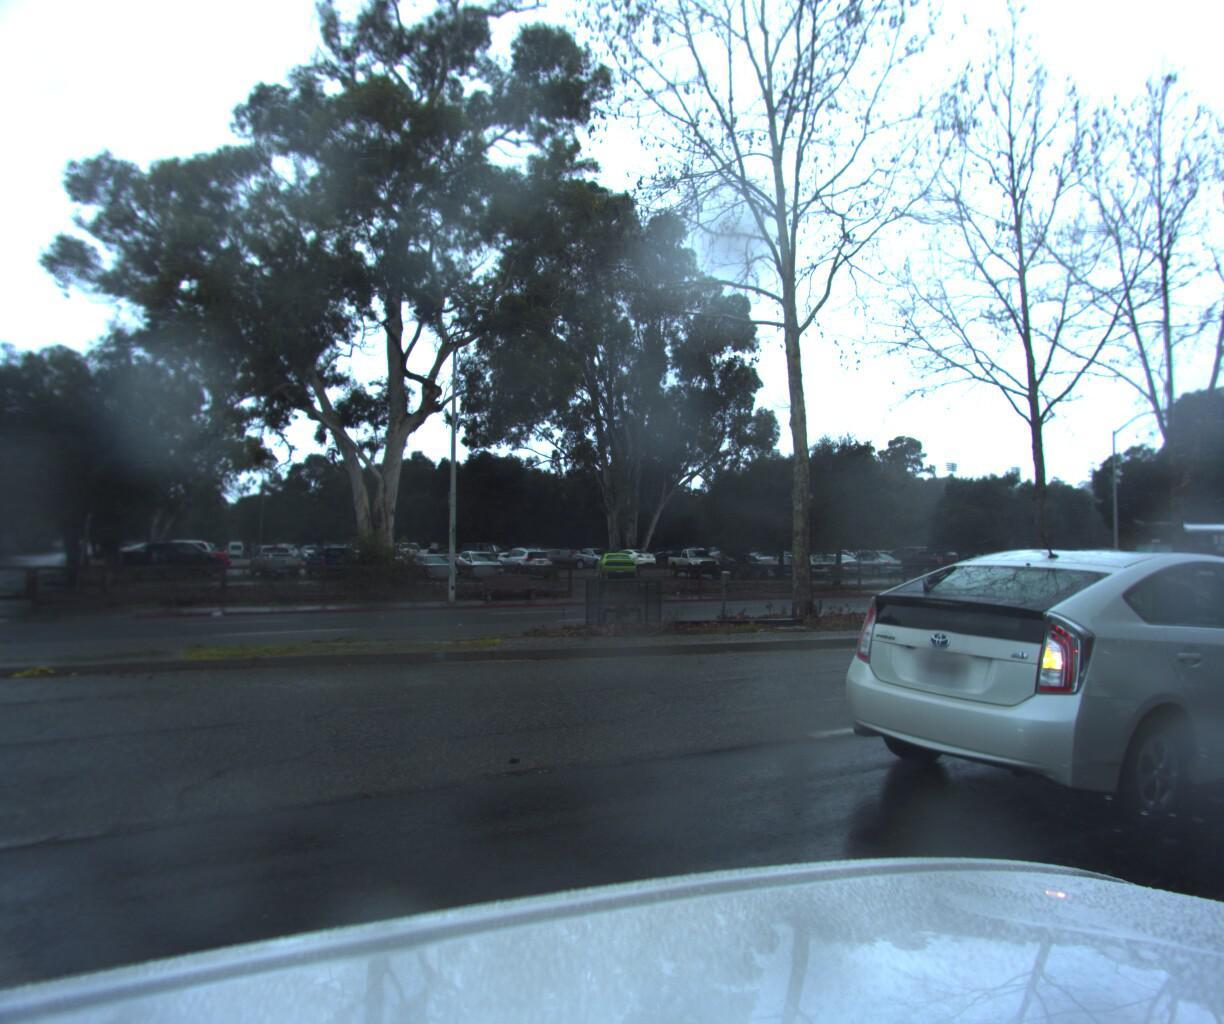bus: (1113, 517, 1224, 586)
car: (807, 529, 1224, 859), (942, 546, 1049, 593), (1037, 545, 1133, 588), (865, 543, 959, 576), (825, 550, 904, 578), (662, 546, 724, 576), (793, 549, 865, 574), (595, 549, 637, 577)
